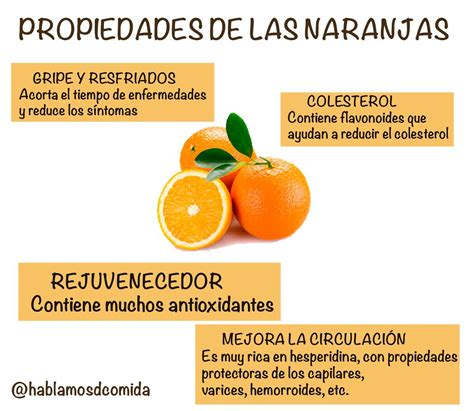orange: (230, 156, 314, 243), (173, 124, 256, 180)
